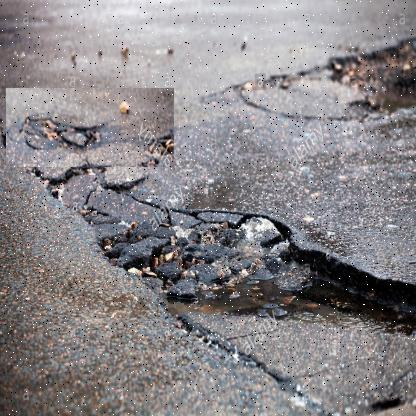damage: (68, 170, 394, 378), (218, 27, 411, 125), (6, 88, 175, 168)
